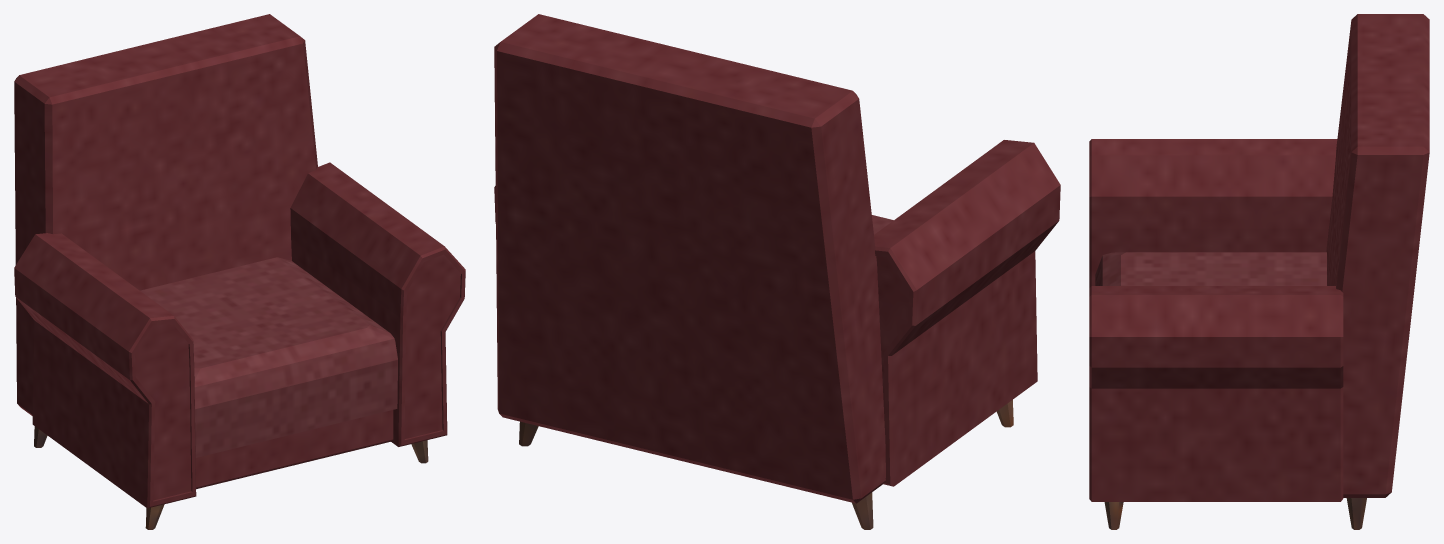
File: armchair.fbx
3 renders of one model, left to right at view 1: azimuth 30°, elevation 25°; view 2: azimuth 150°, elevation 25°; view 3: azimuth 270°, elevation 25°, orthographic. The views are drawn at different scales.
Visible parts, largest first — view 1: ClubArmChair1, Pad1ClubArmChair1; view 2: ClubArmChair1; view 3: ClubArmChair1, Pad1ClubArmChair1.
Boxes of the visible parts, x1,y1,x2,y2 form: ClubArmChair1: (14, 14, 465, 529); Pad1ClubArmChair1: (140, 257, 397, 457); ClubArmChair1: (494, 14, 1060, 529); ClubArmChair1: (1089, 14, 1429, 529); Pad1ClubArmChair1: (1095, 252, 1326, 285).
Bounding box in the file's own units: 121 × 119 × 97.92.
